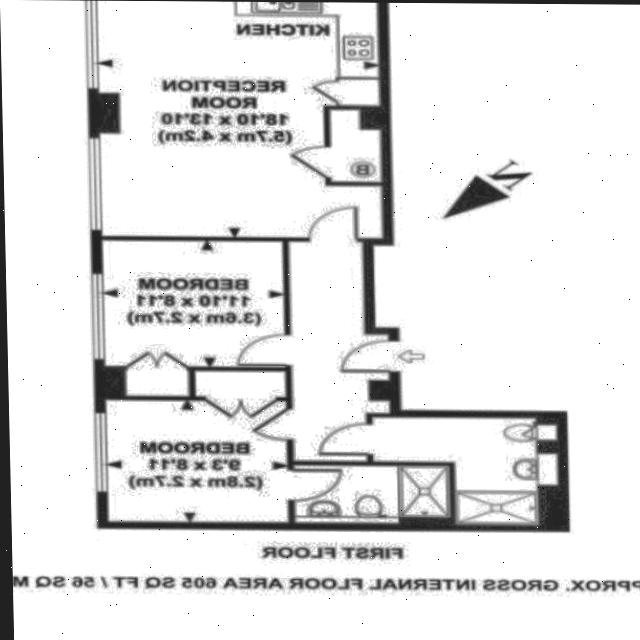room: (95, 1, 385, 238), (286, 238, 393, 464), (102, 239, 287, 368), (106, 400, 290, 523), (372, 417, 558, 525), (293, 465, 451, 524), (194, 370, 287, 398), (125, 371, 190, 397)
